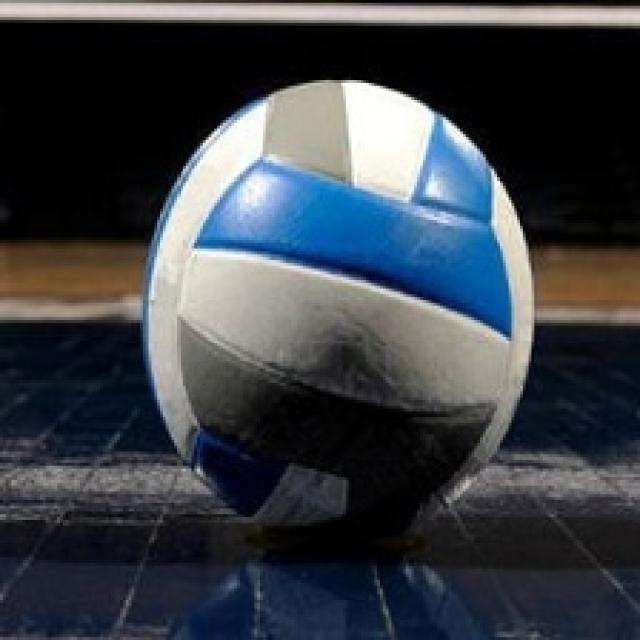volleyball: (141, 78, 536, 547)
